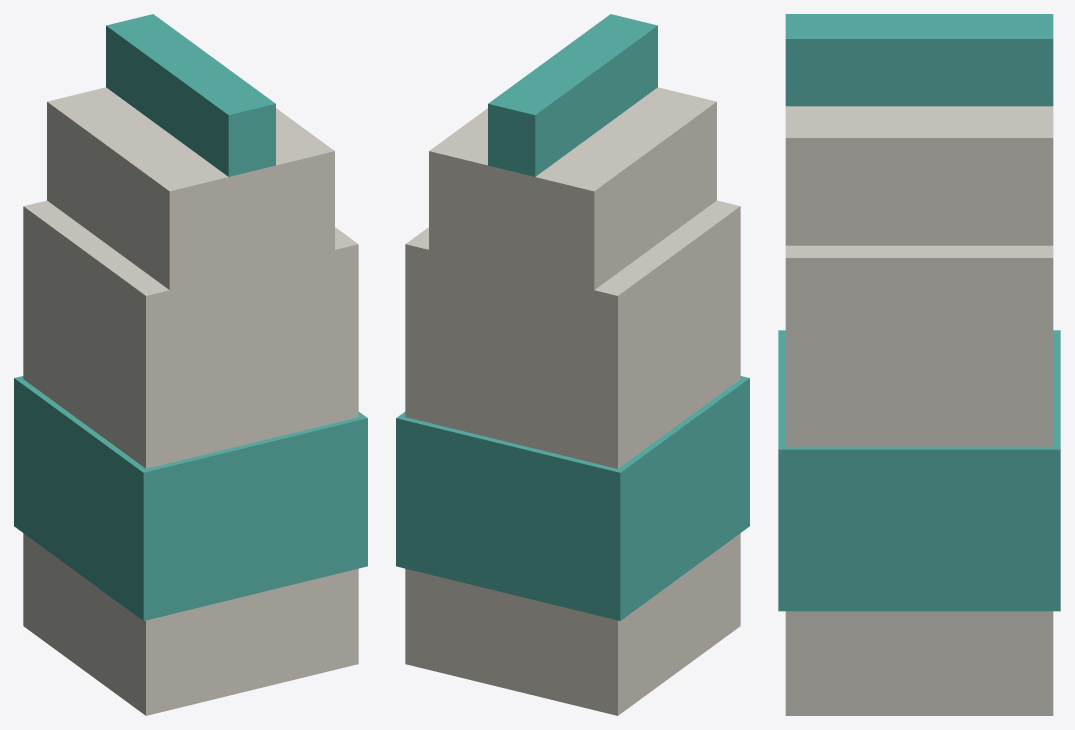
File: supermarket-operations-milk-carton-c3a32ec4__26827.glb
3 views of the same model, side by side, from view 1: azimuth 30°, elevation 25°; view 2: azimuth 150°, elevation 25°; view 3: azimuth 270°, elevation 25° (orthographic). The views are drawn at different scales.
Visible parts, largest first — view 1: milk-carton; view 2: milk-carton; view 3: milk-carton.
Boxes of the visible parts, x1=… form: milk-carton: x1=14, y1=14, x2=367, y2=715; milk-carton: x1=396, y1=14, x2=749, y2=715; milk-carton: x1=778, y1=14, x2=1060, y2=715.
Size of the model in its own units: 0.095 by 0.235 by 0.095.
